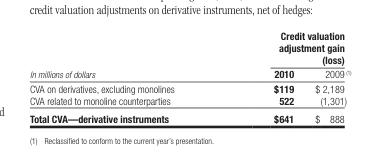table: (28, 29, 350, 124)
table column: (28, 29, 223, 124), (223, 29, 303, 124), (303, 29, 350, 124)
table column header: (28, 29, 350, 80)
table row: (28, 29, 350, 66), (28, 94, 350, 109), (28, 109, 350, 124), (28, 66, 350, 80), (28, 80, 350, 94)
table spanning cell: (28, 29, 223, 80), (223, 29, 350, 66)
